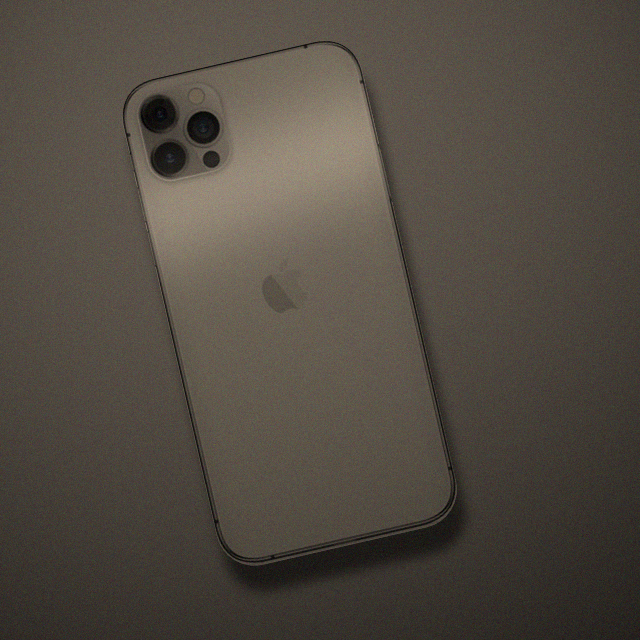iphone_12pro_silver: (98, 22, 492, 587), (131, 83, 238, 180)
